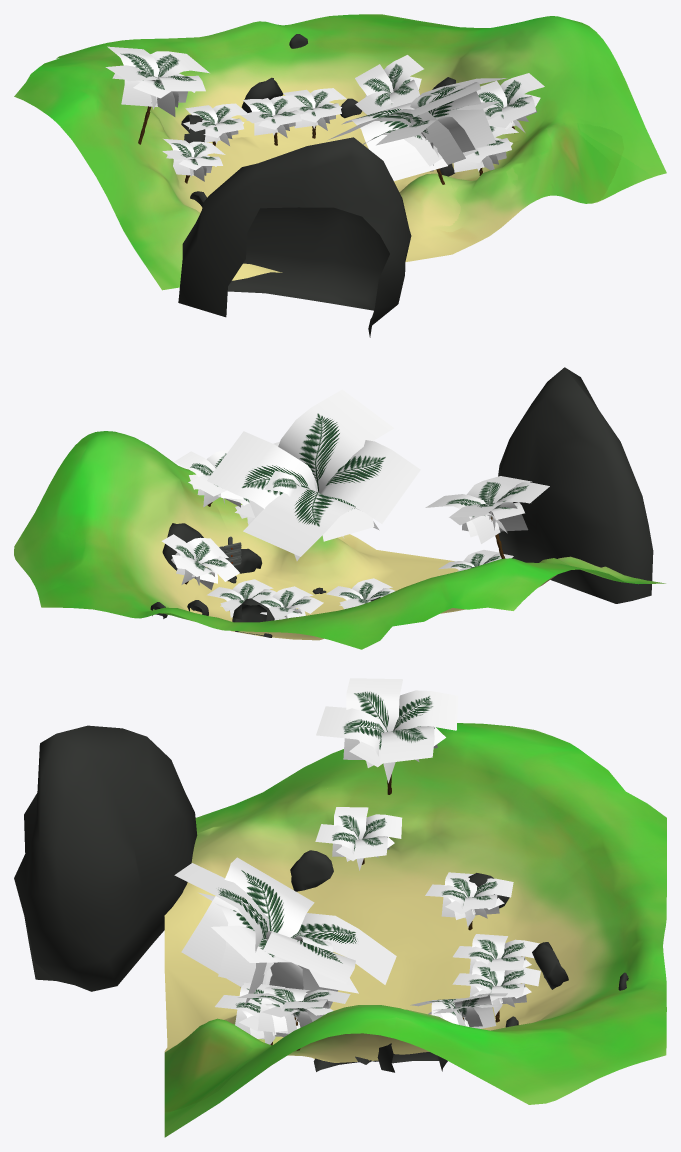
File: 0613Island.fbx
The picture shows the model from 3 angles, top to bottom: view 1: azimuth 30°, elevation 25°; view 2: azimuth 150°, elevation 25°; view 3: azimuth 270°, elevation 25°; orthographic projection. The views are drawn at different scales.
Visible parts, largest first — view 1: Island.001, Stone2.001, Leaf.001; view 2: Island.001, Leaf.001, Stone2.001; view 3: Island.001, Leaf.001, Stone2.001.
Boxes of the visible parts, x1,y1,x2,y2 form: Island.001: (14,14,666,290); Stone2.001: (178,34,455,337); Leaf.001: (105,46,544,181); Island.001: (14,431,665,649); Leaf.001: (161,389,549,620); Stone2.001: (150,367,653,637); Island.001: (164,723,666,1137); Leaf.001: (174,678,540,1044); Stone2.001: (14,725,628,1072).
Size of the model in its own units: 6966 by 2582 by 6332.
